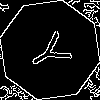Y: (25, 25, 82, 77)
